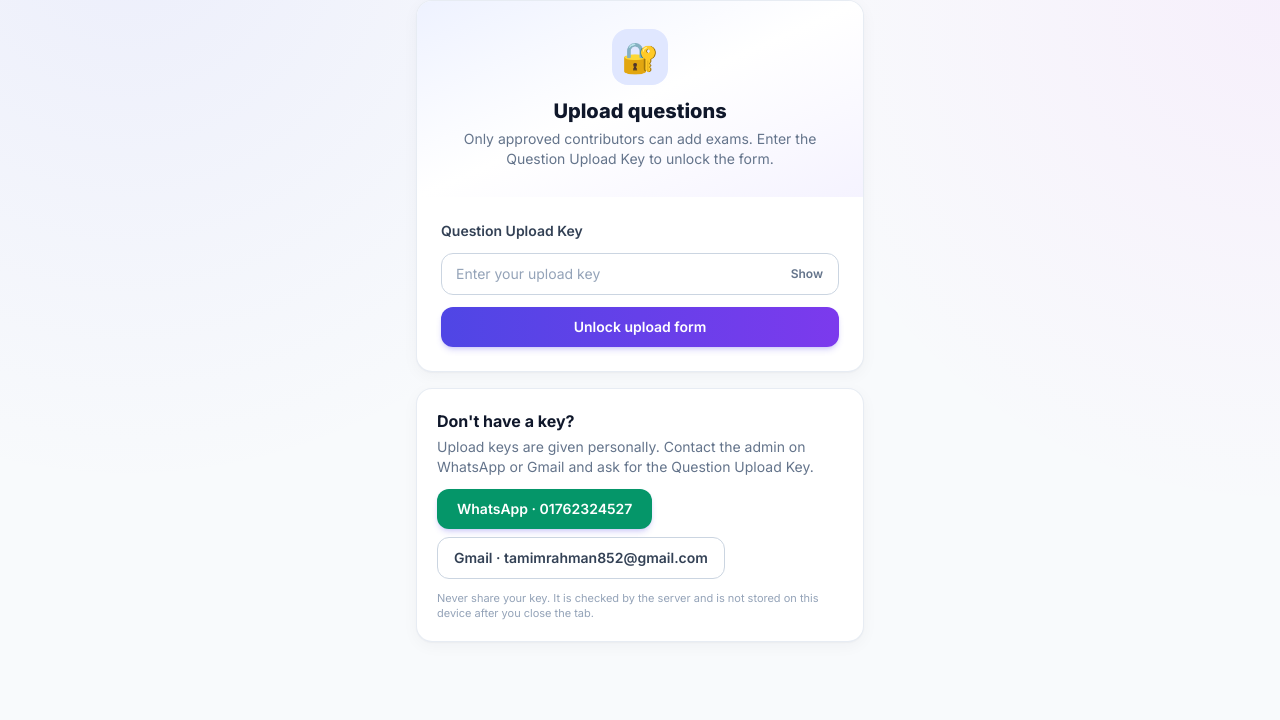
Test: an empty key is rejected before any request is made
Click the button "Unlock upload form". click: click(640, 327)
box: [441, 307, 839, 347]
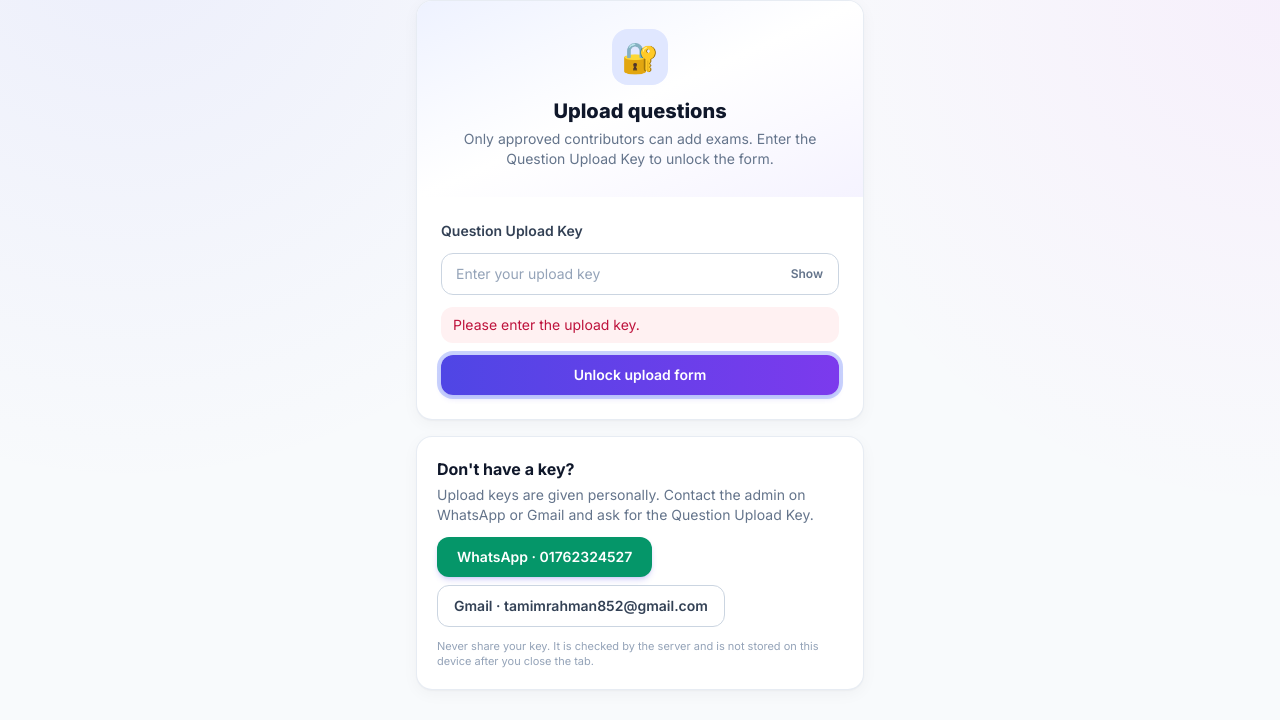
Expected: the message shows "enter the upload key", [453, 316, 640, 333]
